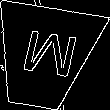M_S: (11, 28, 76, 87)
